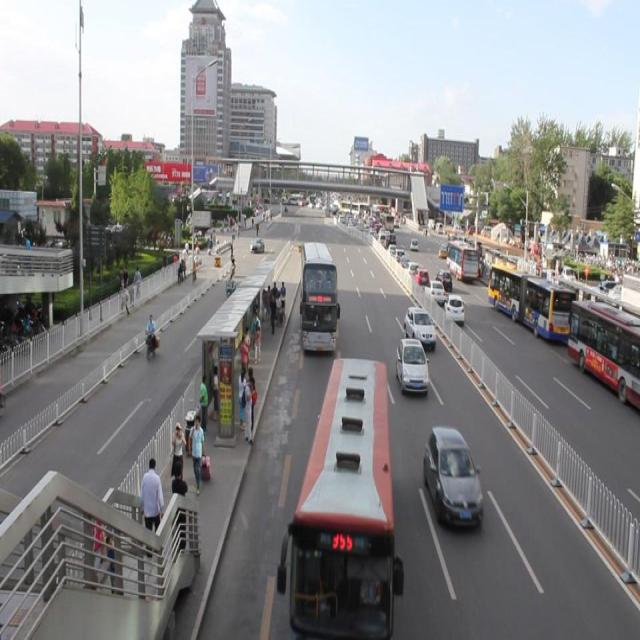car: (420, 426, 484, 532), (393, 337, 430, 395), (401, 305, 436, 348)
van: (276, 359, 404, 640), (296, 240, 340, 356)
